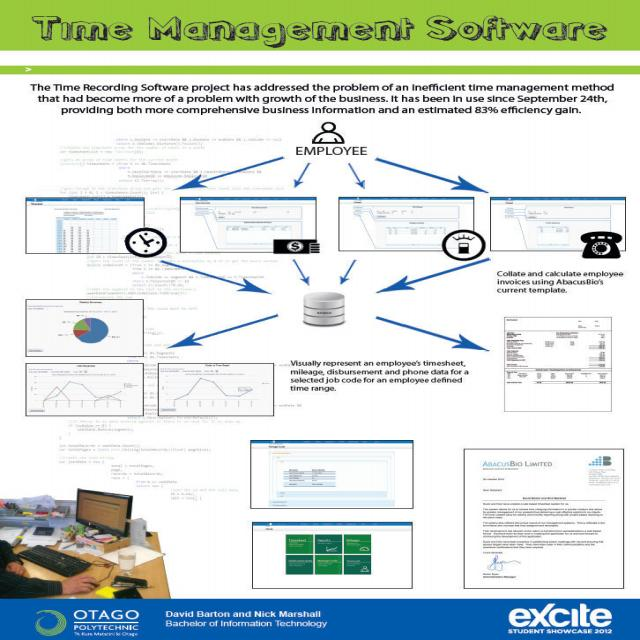desk: (0, 532, 174, 600)
keyboard: (16, 544, 93, 580)
person: (2, 507, 103, 599)
tv: (75, 487, 133, 535)
